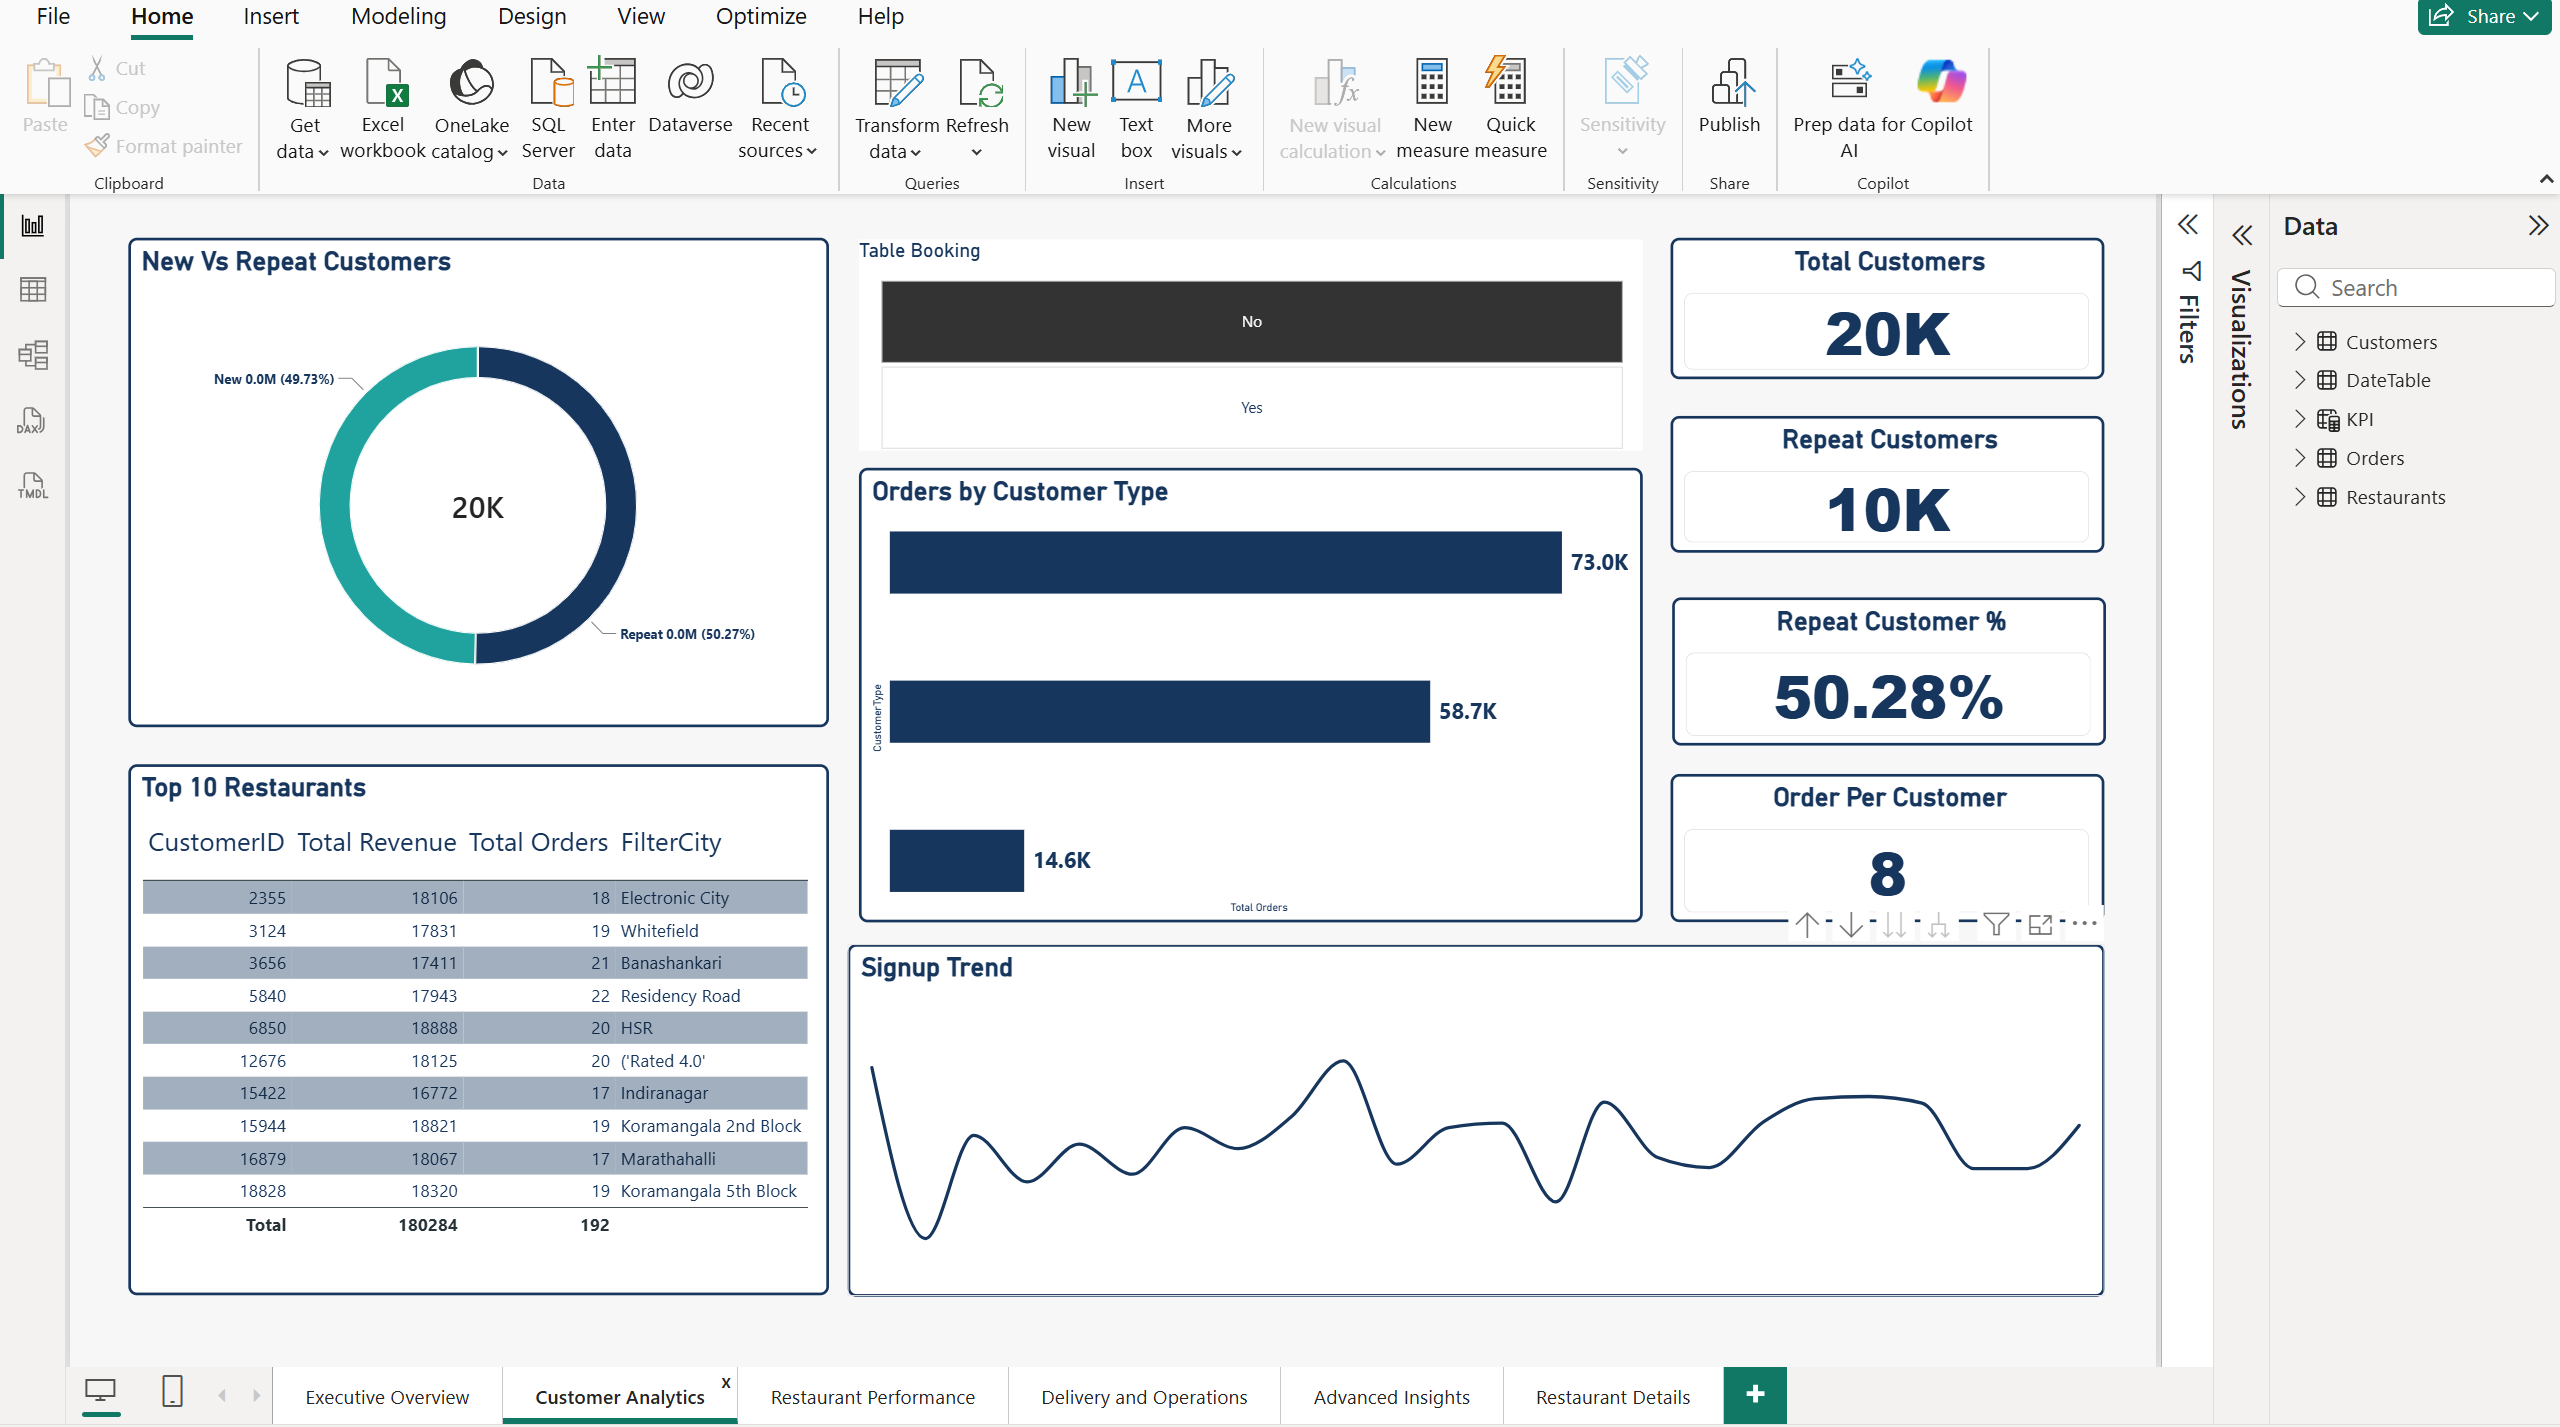

What the dashboard file says about the page in this screenshot:
{"tool":"powerbi","page":{"name":"Customer Analytics","canvas":[1920,1080],"ordinal":1},"visuals":[{"type":"cardVisual","title":"Total Customers","fields":{"Data":["Orders.Total Customers"]},"box":[1473.6,40.6,399.4,130.3],"z":0},{"type":"cardVisual","title":"Repeat Customers","fields":{"Data":["Orders.Repeat Customers"]},"box":[1473.6,205,399.4,126],"z":1000},{"type":"cardVisual","title":"Repeat Customer %","fields":{"Data":["Orders.Repeat Customers %"]},"box":[1475.7,371.6,399.4,136.7],"z":2000},{"type":"cardVisual","title":"Order Per Customer","fields":{"Data":["Orders.Orders Per Customers"]},"box":[1473.6,533.9,399.4,136.7],"z":3000},{"type":"lineChart","title":"Signup Trend","fields":{"Category":["Customers.SignupDate.Variation.Date Hierarchy.Year","Customers.SignupDate.Variation.Date Hierarchy.Month"],"Y":["Orders.Total Customers"]},"box":[715.4,689.8,1157.5,324.6],"z":4000},{"type":"barChart","title":"Orders by Customer Type","fields":{"Category":["Customers.CustomerType"],"Y":["Orders.Total Orders"]},"box":[726.1,252,721.9,418.6],"z":5000},{"type":"donutChart","title":"New Vs Repeat Customers","fields":{"Category":["Customers.RepeatedvsNew"],"Y":["Orders.Total Customers"]},"box":[53.4,40.6,645,450.6],"z":6000},{"type":"tableEx","title":"Top 10 Restaurants","fields":{"Values":["Orders.CustomerID","Orders.Total Revenue","Orders.Total Orders","Customers.FilterCity"]},"box":[53.4,525.4,645,489.1],"z":7000},{"type":"slicer","title":"Table Booking","fields":{"Values":["Restaurants.Book_Table 2"]},"box":[725.6,41.2,721.9,194.3],"z":8000}]}

Visuals, with their boxes on the page's 1920x1080 design canvas (x1, y1, x2, y2). These are canvas units, not pixel positions in the 2560x1427 screenshot, which may show the page scaled, cropped or inside an application window:
"Total Customers" cardVisual: [1474, 41, 1873, 171]
"Repeat Customers" cardVisual: [1474, 205, 1873, 331]
"Repeat Customer %" cardVisual: [1476, 372, 1875, 508]
"Order Per Customer" cardVisual: [1474, 534, 1873, 671]
"Signup Trend" lineChart: [715, 690, 1873, 1014]
"Orders by Customer Type" barChart: [726, 252, 1448, 671]
"New Vs Repeat Customers" donutChart: [53, 41, 698, 491]
"Top 10 Restaurants" tableEx: [53, 525, 698, 1014]
"Table Booking" slicer: [726, 41, 1448, 236]
